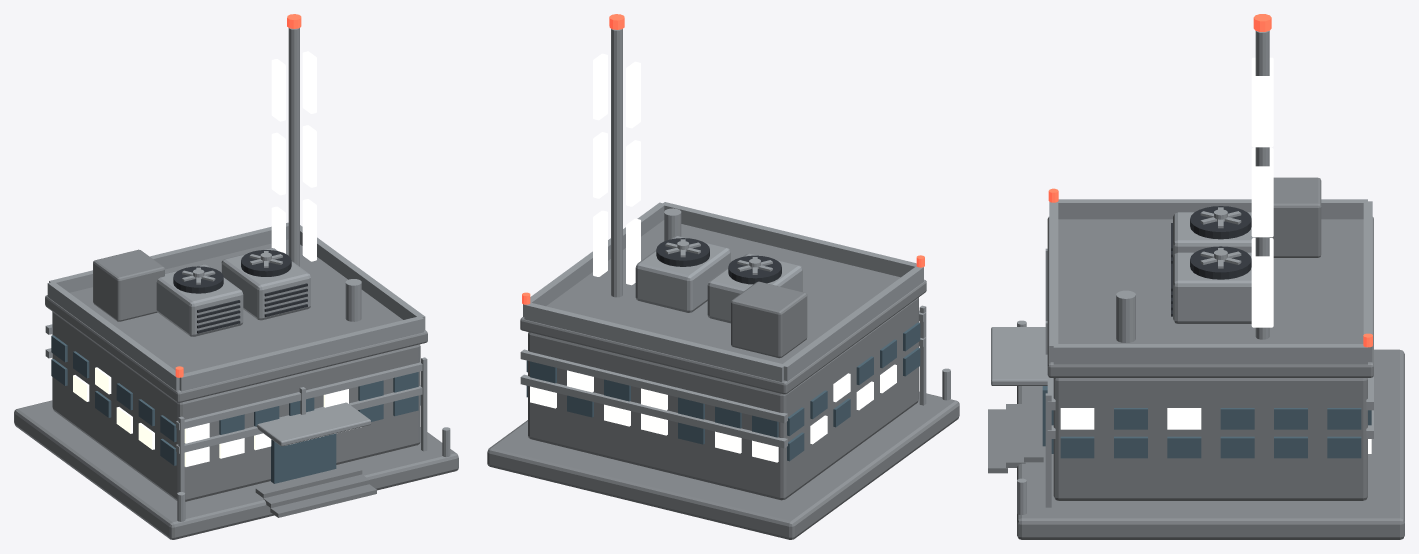
Rendered from telecom.glb.
3 views of the same model, side by side, from view 1: azimuth 30°, elevation 25°; view 2: azimuth 150°, elevation 25°; view 3: azimuth 270°, elevation 25° (orthographic). The views are drawn at different scales.
Parts seen in each view (by area): view 1: ZDC_telecom; view 2: ZDC_telecom; view 3: ZDC_telecom.
Part boxes in pixels (left/top/right/bottom): ZDC_telecom: left=14, top=14, right=458, bottom=539; ZDC_telecom: left=487, top=14, right=959, bottom=539; ZDC_telecom: left=988, top=14, right=1404, bottom=539.
Size of the model in its own units: 2.05 by 2.69 by 2.1.
